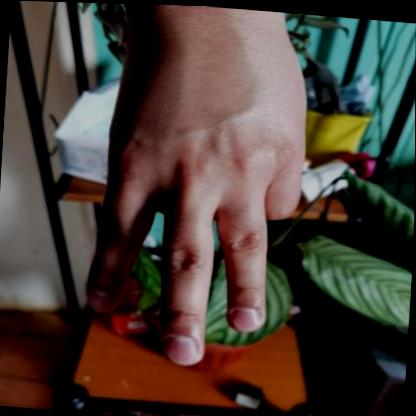M: (57, 18, 368, 385)
